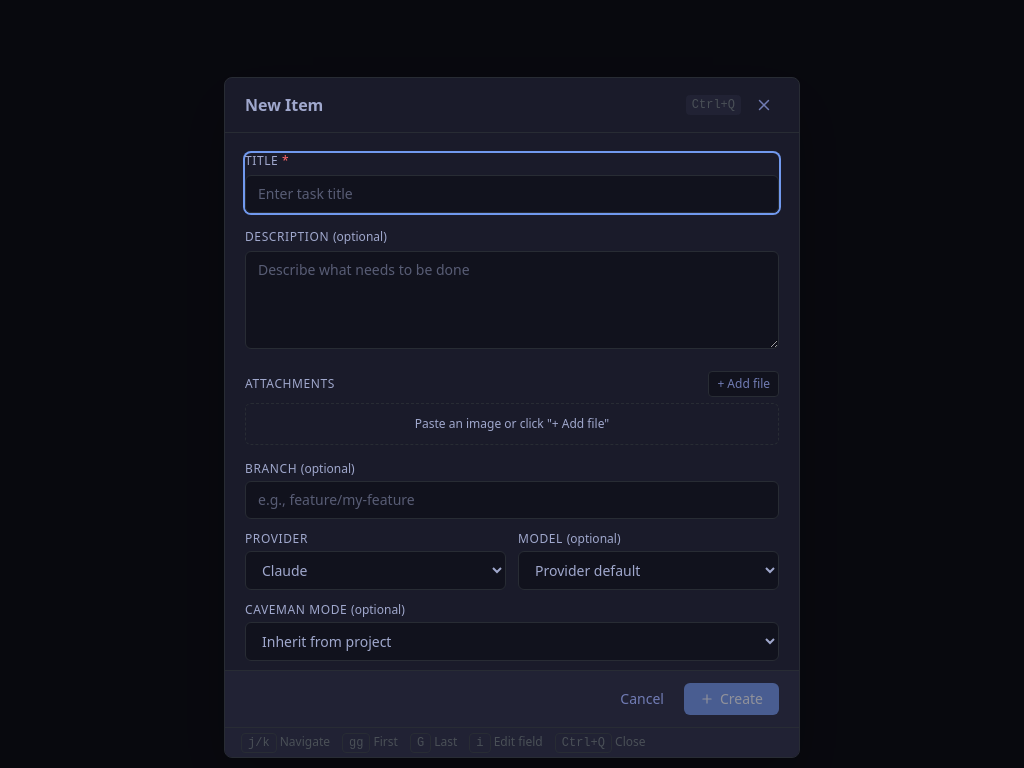
NewItemDialog › should enable create button when title is provided but description is empty
# Fill title but not description
Type "Test Title" into the field with test id "title-input" at (512, 194), box [245, 175, 779, 213]
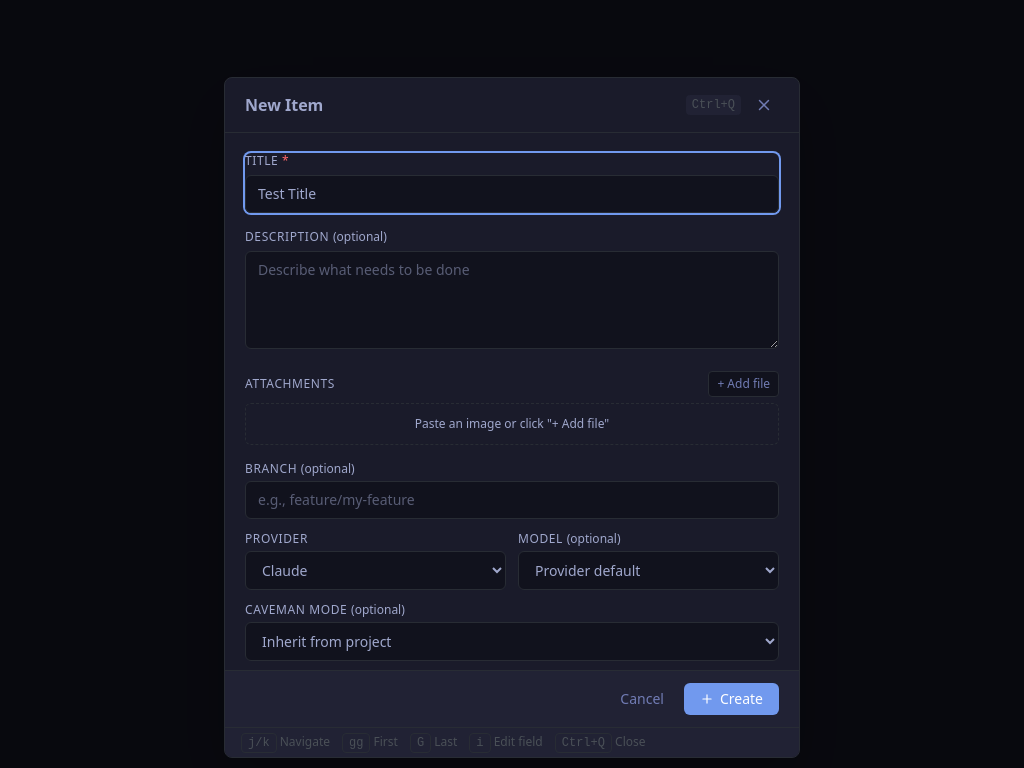
expect the button with test id "create-button" is enabled: met, box [684, 683, 779, 715]
